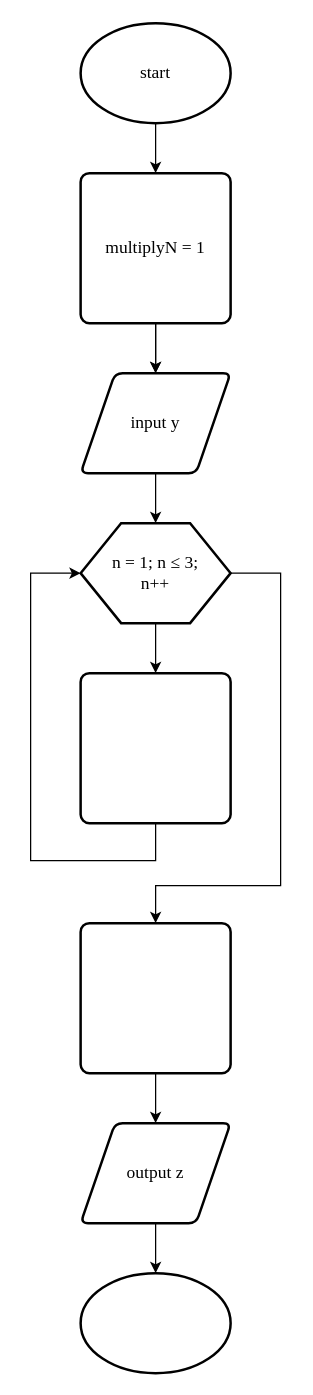
Some shapes in this 313 by 1395 pixel diagram are drawn without their labels. Here are the shapes that lost their labels. From the top down, the centre of each, then its label:
At point 155,747: "multiplyN *= n 2".
At point 155,997: "z = y 3 + multiplyN".
At point 155,1322: "end".
